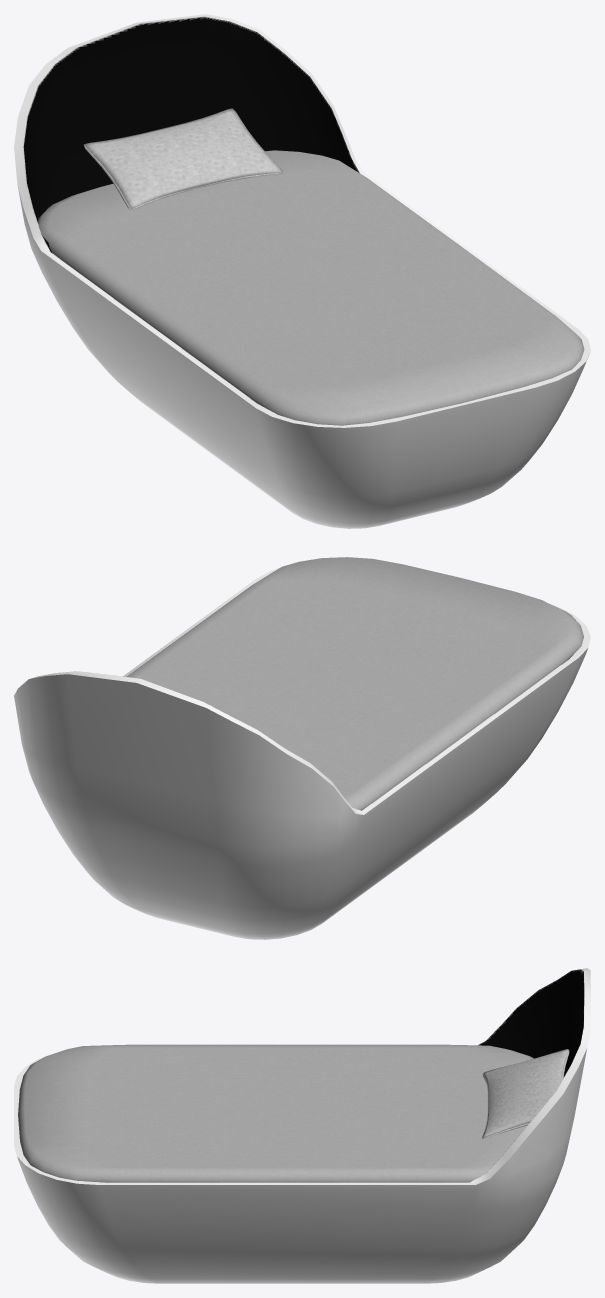
The model's file is Bed.glb.
3 renders of one model, top to bottom at view 1: azimuth 30°, elevation 25°; view 2: azimuth 150°, elevation 25°; view 3: azimuth 270°, elevation 25°, orthographic. The views are drawn at different scales.
Parts seen in each view (by area): view 1: Base, Bed, Pillow; view 2: Bed, Base; view 3: Base, Bed, Pillow.
Boxes of the visible parts, box(x1,y1,x2,y2) form: Base: box(37, 150, 584, 425); Bed: box(14, 14, 590, 528); Pillow: box(83, 108, 282, 209); Bed: box(14, 568, 590, 939); Base: box(127, 557, 583, 810); Base: box(18, 1044, 533, 1182); Bed: box(14, 968, 590, 1283); Pillow: box(482, 1049, 569, 1138).
Size of the model in its own units: 1.15 by 0.9871 by 2.03.
Materials: 1 (1 with a texture image).
